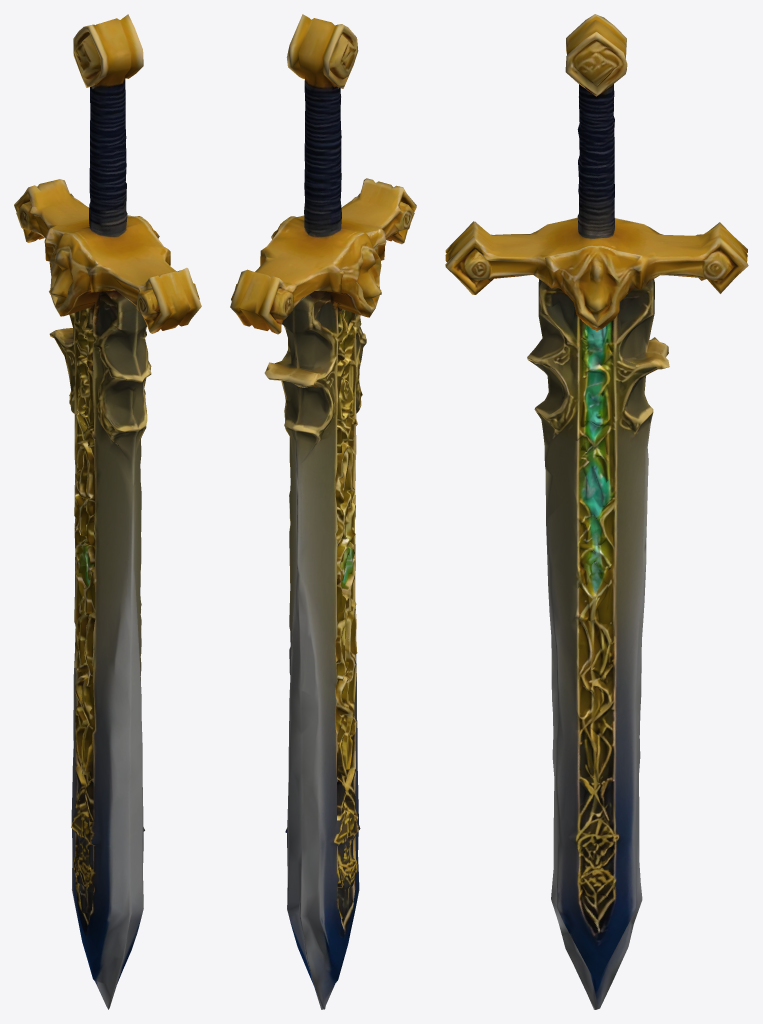
The model's file is melvinci_blade.glb.
3 renders of one model, left to right at view 1: azimuth 30°, elevation 25°; view 2: azimuth 150°, elevation 25°; view 3: azimuth 270°, elevation 25°, orthographic.
Parts seen in each view (by area): view 1: tripo_node_28fdbf2c-d0c6-489e-a049-2ce6c3c7bbf7; view 2: tripo_node_28fdbf2c-d0c6-489e-a049-2ce6c3c7bbf7; view 3: tripo_node_28fdbf2c-d0c6-489e-a049-2ce6c3c7bbf7.
Part boxes in pixels (x1,y1,x2,y2): tripo_node_28fdbf2c-d0c6-489e-a049-2ce6c3c7bbf7: (14,14,201,1009); tripo_node_28fdbf2c-d0c6-489e-a049-2ce6c3c7bbf7: (230,14,416,1009); tripo_node_28fdbf2c-d0c6-489e-a049-2ce6c3c7bbf7: (445,14,748,1009).
Size of the model in its own units: 0.1234 by 1 by 0.2783.
Materials: 1 (1 with a texture image).
